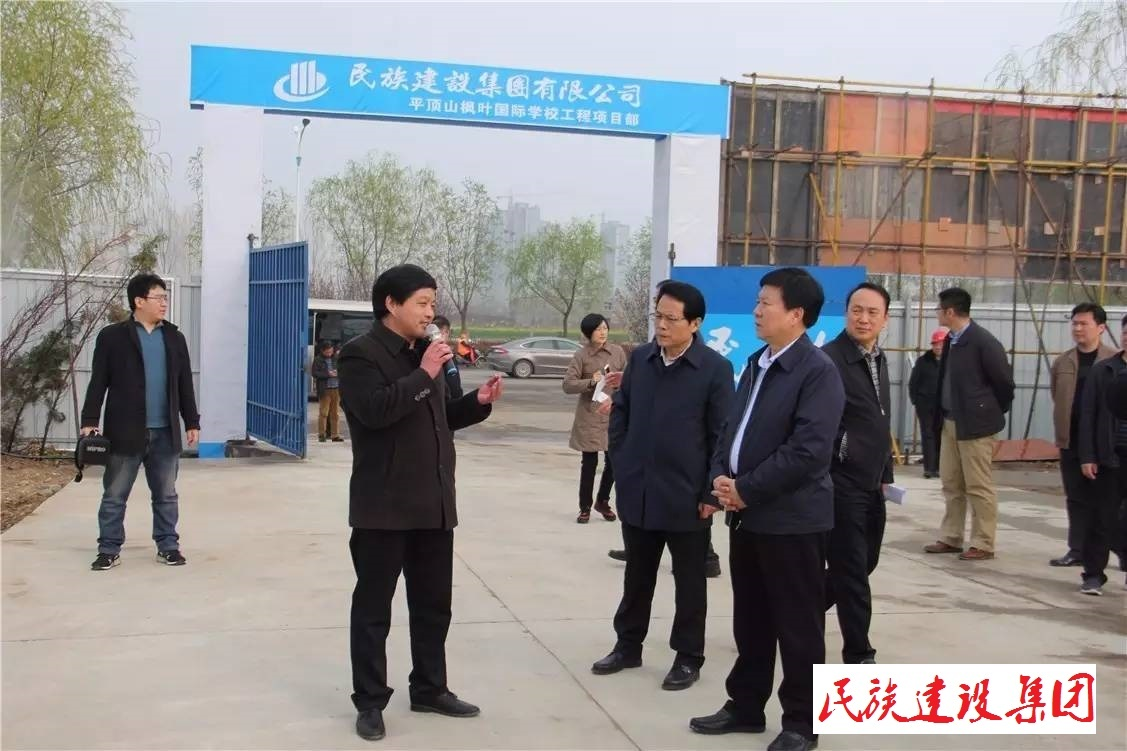none: (749, 264, 826, 343), (370, 264, 435, 338), (649, 281, 707, 349), (840, 279, 894, 343), (125, 268, 169, 325), (1066, 301, 1107, 349), (933, 285, 973, 325), (582, 311, 609, 345), (429, 311, 451, 340), (317, 337, 335, 356)
red: (926, 326, 948, 356)
